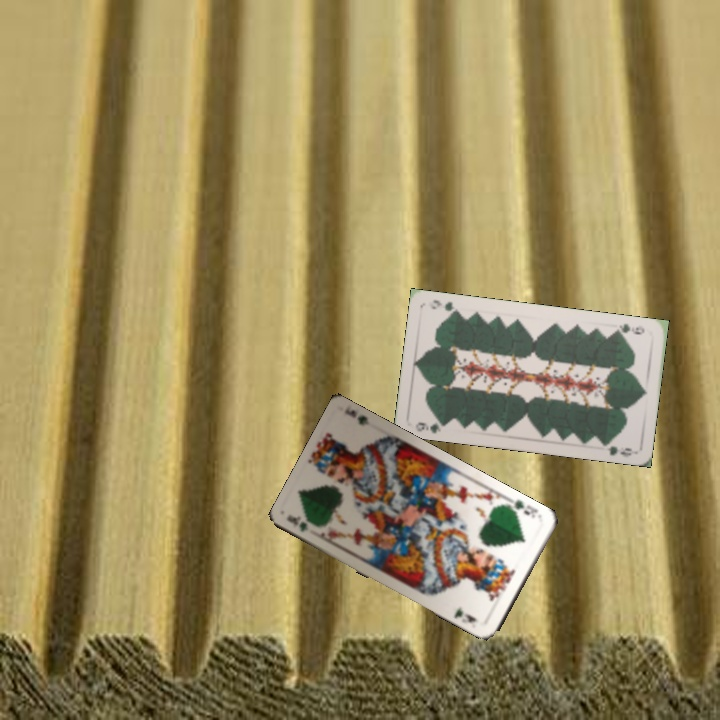G9: (411, 416, 450, 436), (610, 320, 647, 337)
GK: (504, 496, 541, 521), (283, 511, 310, 535)
